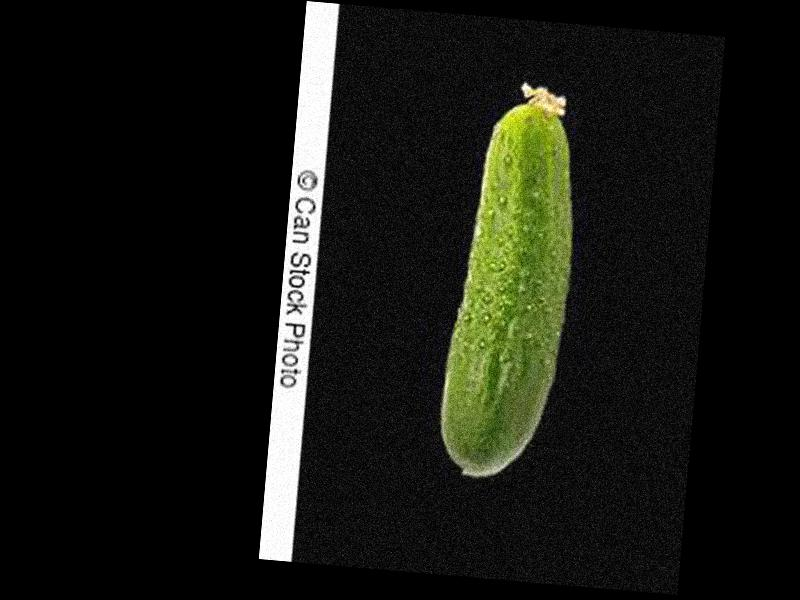Cucumber: (437, 77, 586, 483)
